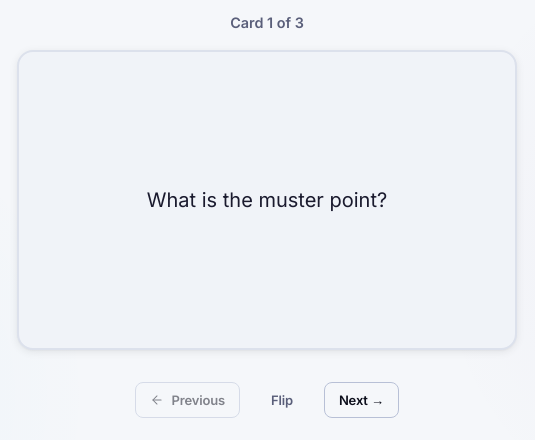
Test case: moving through it › advances to the next card
Click the button "Next →": (361, 400) [324,382,399,418]
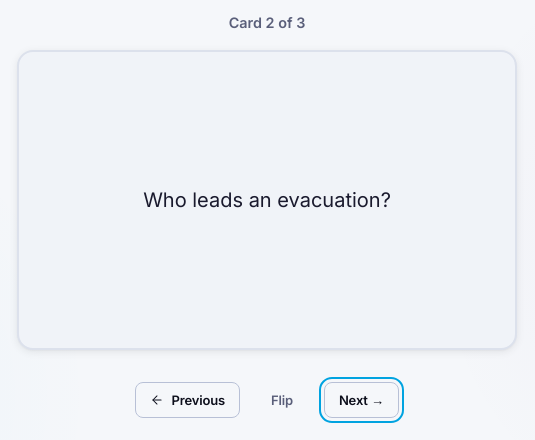
Expected: the text "Who leads an evacuation?" is shown
